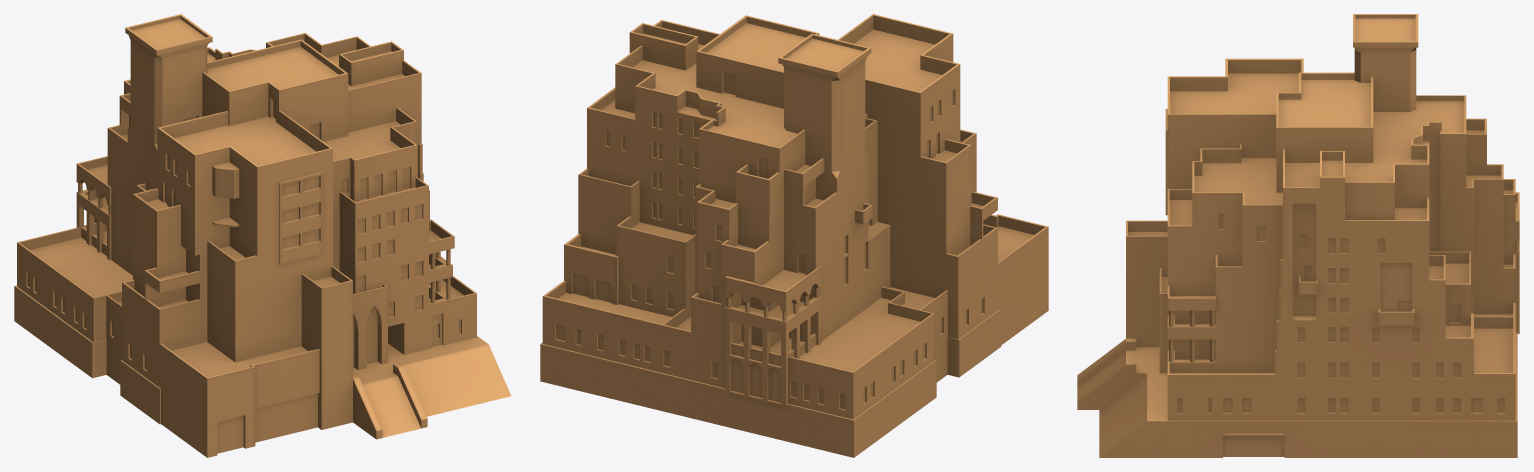
Rendered from dubaimunicipality.gltf.
The picture shows the model from 3 angles, left to right: view 1: azimuth 30°, elevation 25°; view 2: azimuth 150°, elevation 25°; view 3: azimuth 270°, elevation 25°; orthographic projection. The views are drawn at different scales.
Visible parts, largest first — view 1: dubaimunicipality; view 2: dubaimunicipality; view 3: dubaimunicipality.
Part boxes in pixels (bbox=[...]): dubaimunicipality: bbox=[14, 14, 511, 457]; dubaimunicipality: bbox=[540, 14, 1048, 457]; dubaimunicipality: bbox=[1077, 14, 1519, 457].
Bounding box in the file's own units: 37.67 × 37.38 × 46.01.
1 material, 1 textured.
